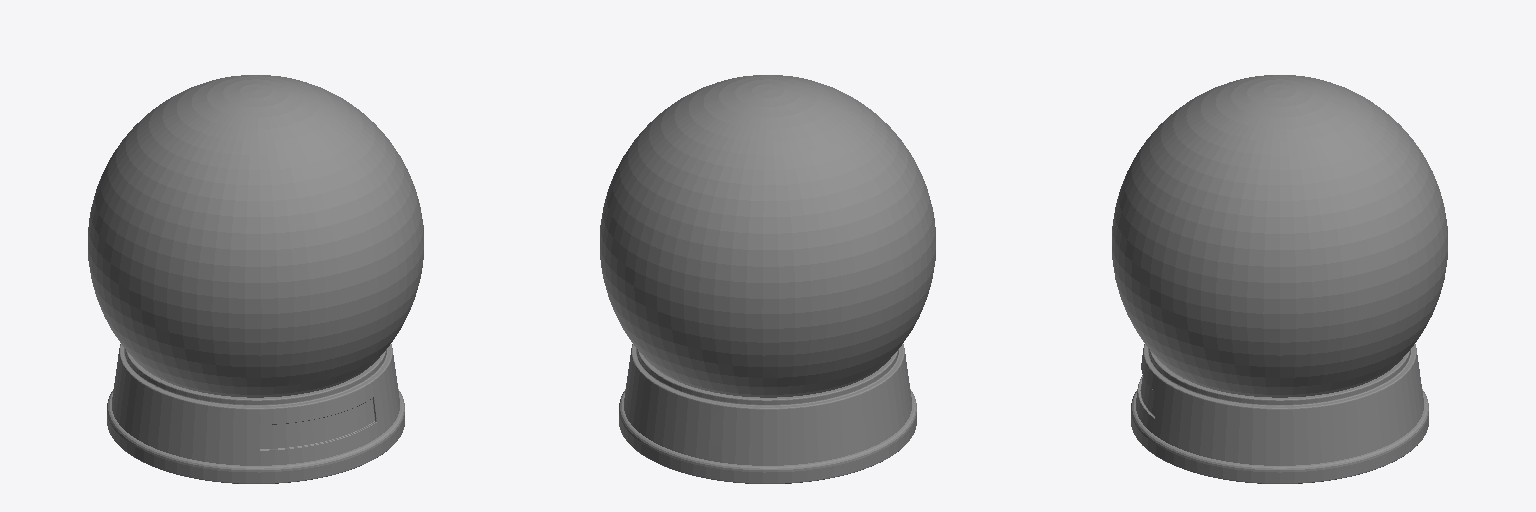
Rendered from snow-globe.obj.
3 renders of one model, left to right at view 1: azimuth 30°, elevation 25°; view 2: azimuth 150°, elevation 25°; view 3: azimuth 270°, elevation 25°, orthographic.
Parts seen in each view (by area): view 1: Snow_Globe; view 2: Snow_Globe; view 3: Snow_Globe.
Part boxes in pixels (left/top/right/bottom): Snow_Globe: left=88, top=75, right=423, bottom=483; Snow_Globe: left=600, top=75, right=935, bottom=483; Snow_Globe: left=1112, top=75, right=1447, bottom=483.
Bounding box in the file's own units: 0.1153 × 0.125 × 0.1153.